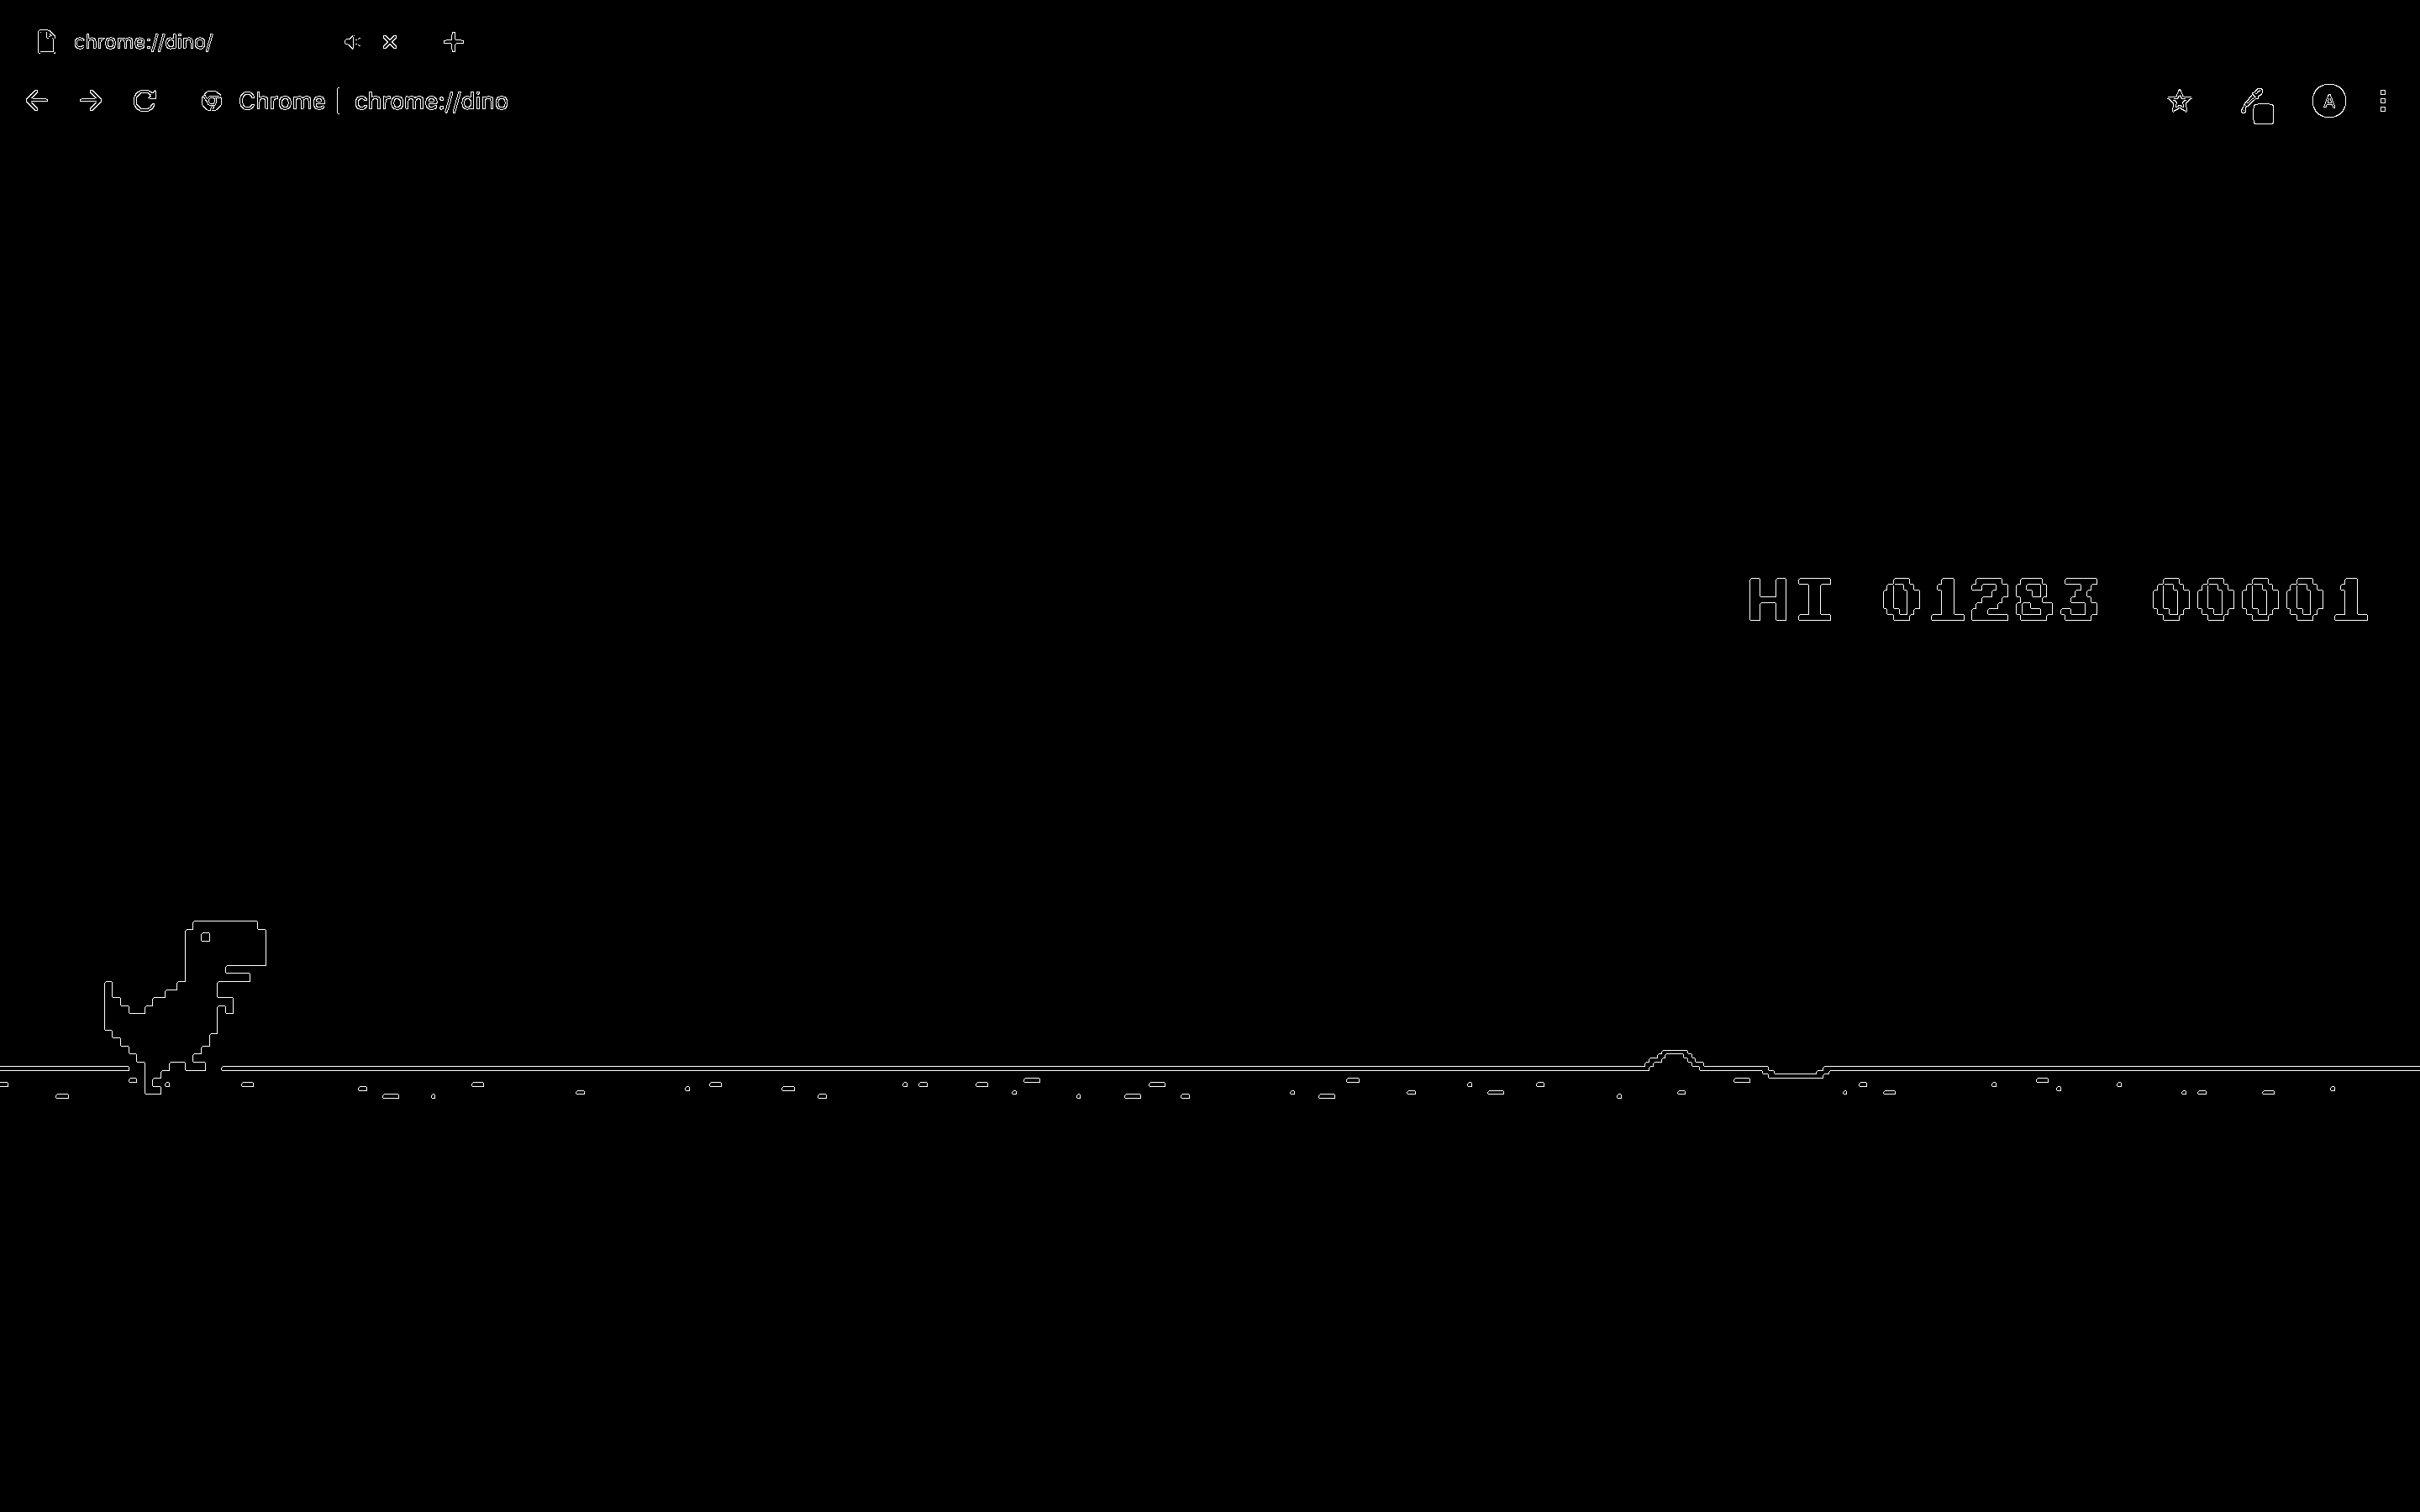Dino: (96, 916, 272, 1090)
